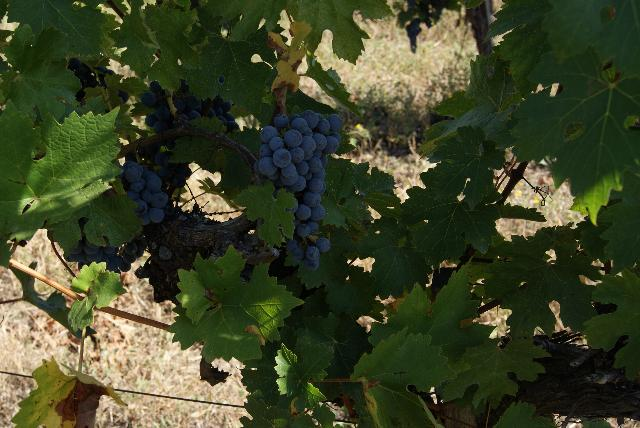grapes: (254, 110, 342, 270), (140, 79, 239, 134), (118, 160, 169, 225)
